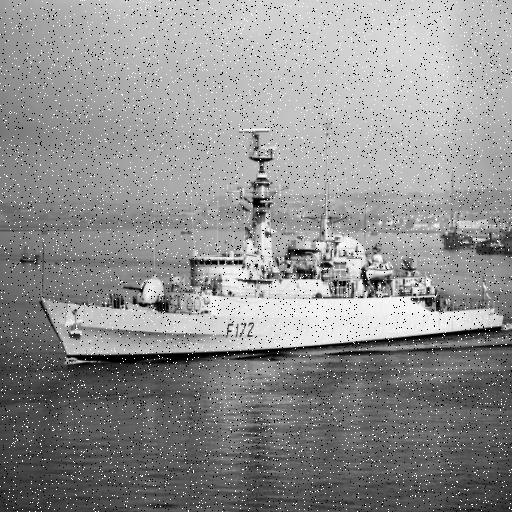Fragata: (35, 126, 509, 365)
